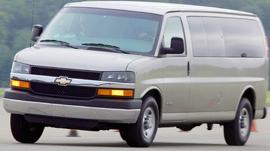front_view: (7, 57, 141, 123)
headlight: (98, 68, 140, 102)
side_glass: (163, 13, 268, 61)
